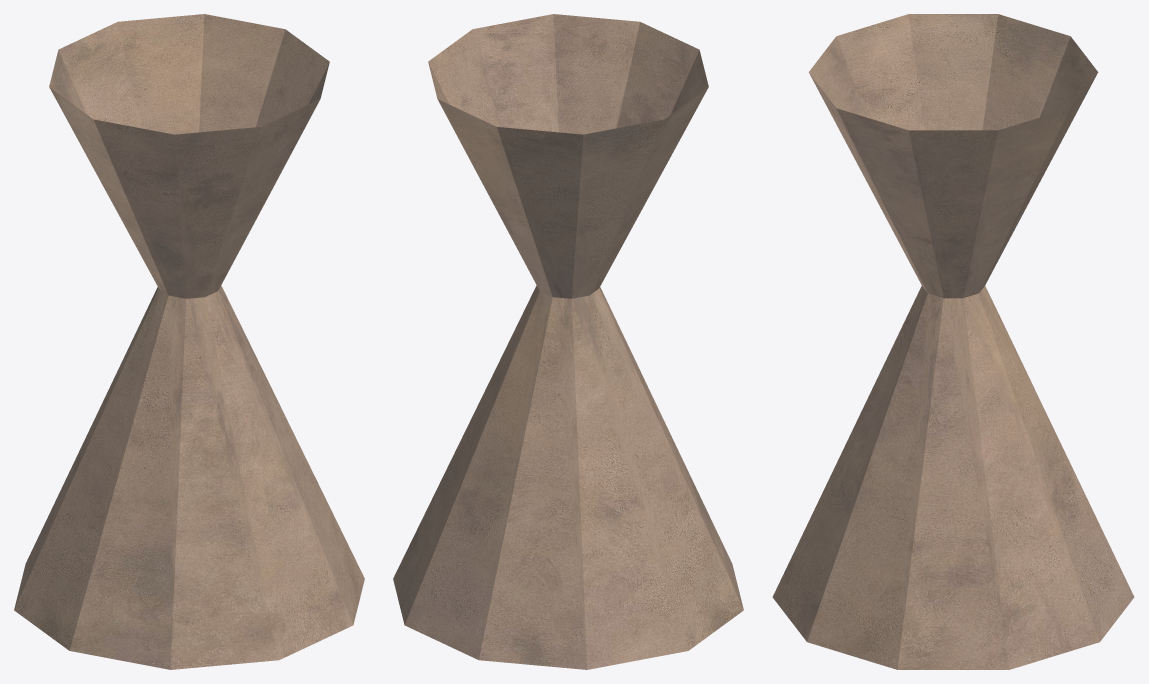
Rendered from jigger.glb.
3 views of the same model, side by side, from view 1: azimuth 30°, elevation 25°; view 2: azimuth 150°, elevation 25°; view 3: azimuth 270°, elevation 25° (orthographic).
Parts seen in each view (by area): view 1: Jigger_LowPoly; view 2: Jigger_LowPoly; view 3: Jigger_LowPoly.
Part boxes in pixels (left/top/right/bottom): Jigger_LowPoly: left=14, top=14, right=364, bottom=669; Jigger_LowPoly: left=393, top=14, right=743, bottom=669; Jigger_LowPoly: left=772, top=14, right=1134, bottom=669.
Size of the model in its own units: 0.038 by 0.064 by 0.04.
Materials: 1 (1 with a texture image).
